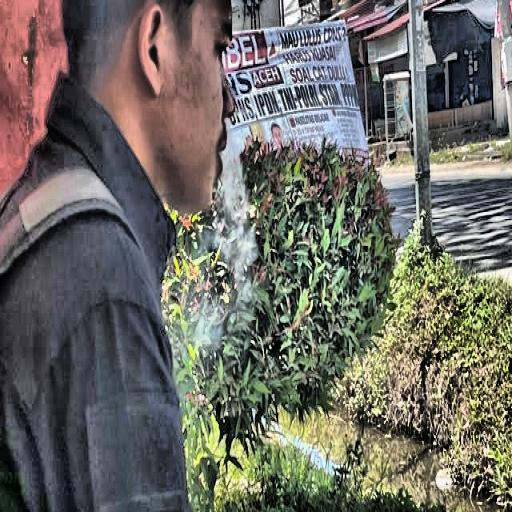Rokok: (0, 0, 254, 512)
